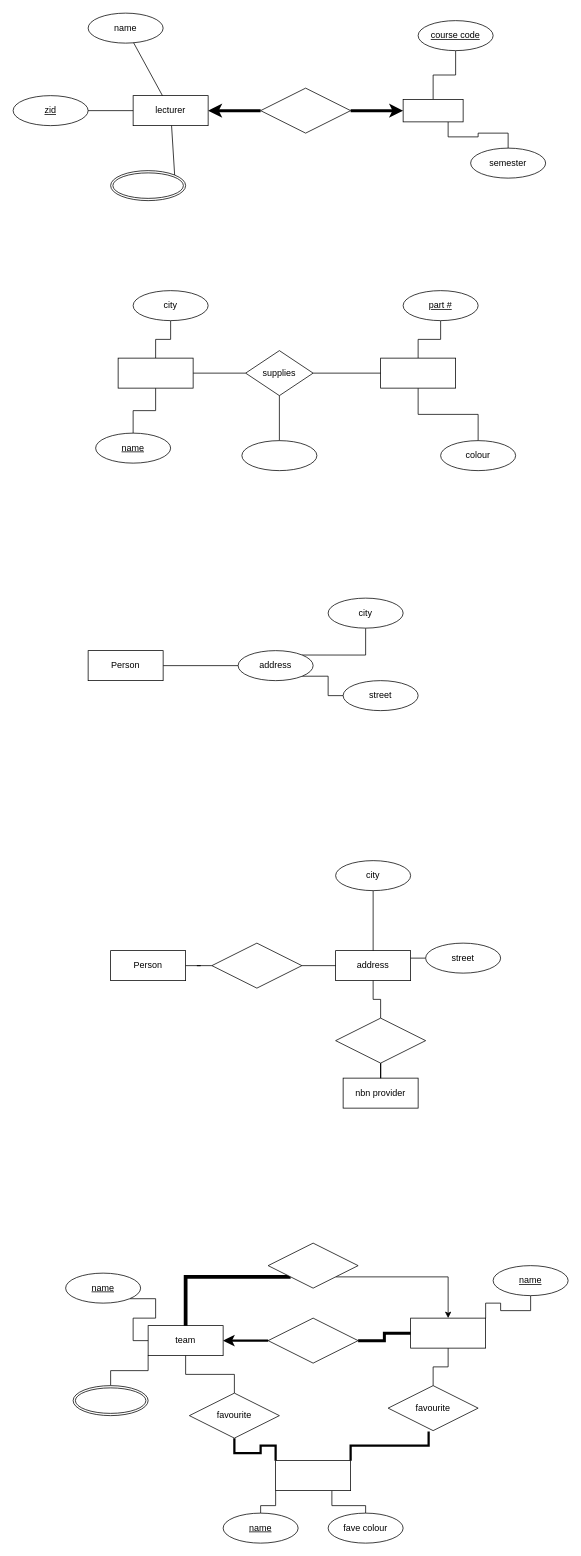
Some shapes in this 581 by 1556 pixel diagram are drawn without their labels. Here are the shapes that lost their labels. From the top down, the box of each, then its label:
(260, 87, 351, 133): teaches
(402, 99, 463, 122): course
(110, 170, 186, 201): fave colours
(117, 357, 193, 388): supplier
(380, 357, 456, 388): part
(241, 440, 317, 471): quantity
(211, 942, 302, 988): lives at
(335, 1017, 426, 1063): provides
(267, 1242, 358, 1288): is captain
(267, 1317, 358, 1363): plays
(410, 1317, 486, 1348): player
(72, 1385, 148, 1416): uniform colours
(275, 1460, 351, 1491): fan
